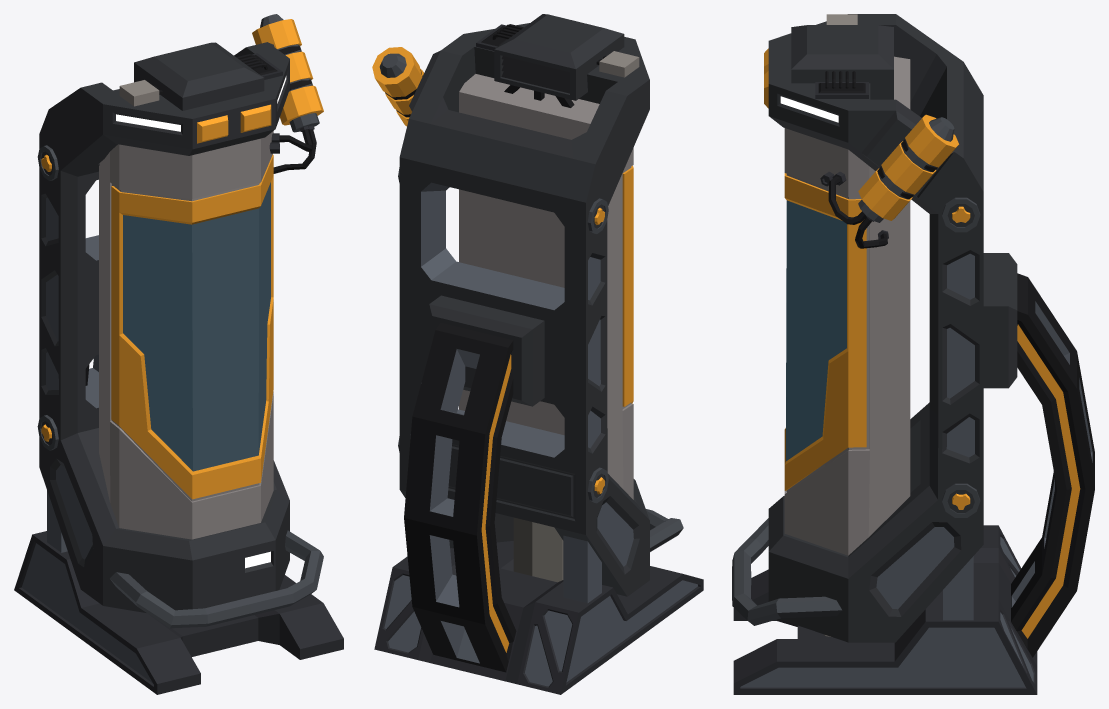
The model's file is SM_Device_01.glb.
The picture shows the model from 3 angles, left to right: view 1: azimuth 30°, elevation 25°; view 2: azimuth 150°, elevation 25°; view 3: azimuth 270°, elevation 25°; orthographic projection. The views are drawn at different scales.
Parts seen in each view (by area): view 1: SM_Device_01; view 2: SM_Device_01; view 3: SM_Device_01.
Part boxes in pixels (left/top/right/bottom): SM_Device_01: left=14, top=14, right=343, bottom=694; SM_Device_01: left=372, top=14, right=703, bottom=694; SM_Device_01: left=732, top=14, right=1094, bottom=694.
Size of the model in its own units: 1.44 by 3.33 by 1.81.
Materials: 3 (1 with a texture image).
